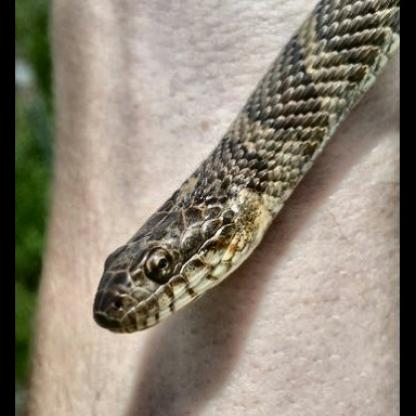Snake: (82, 1, 397, 335)
